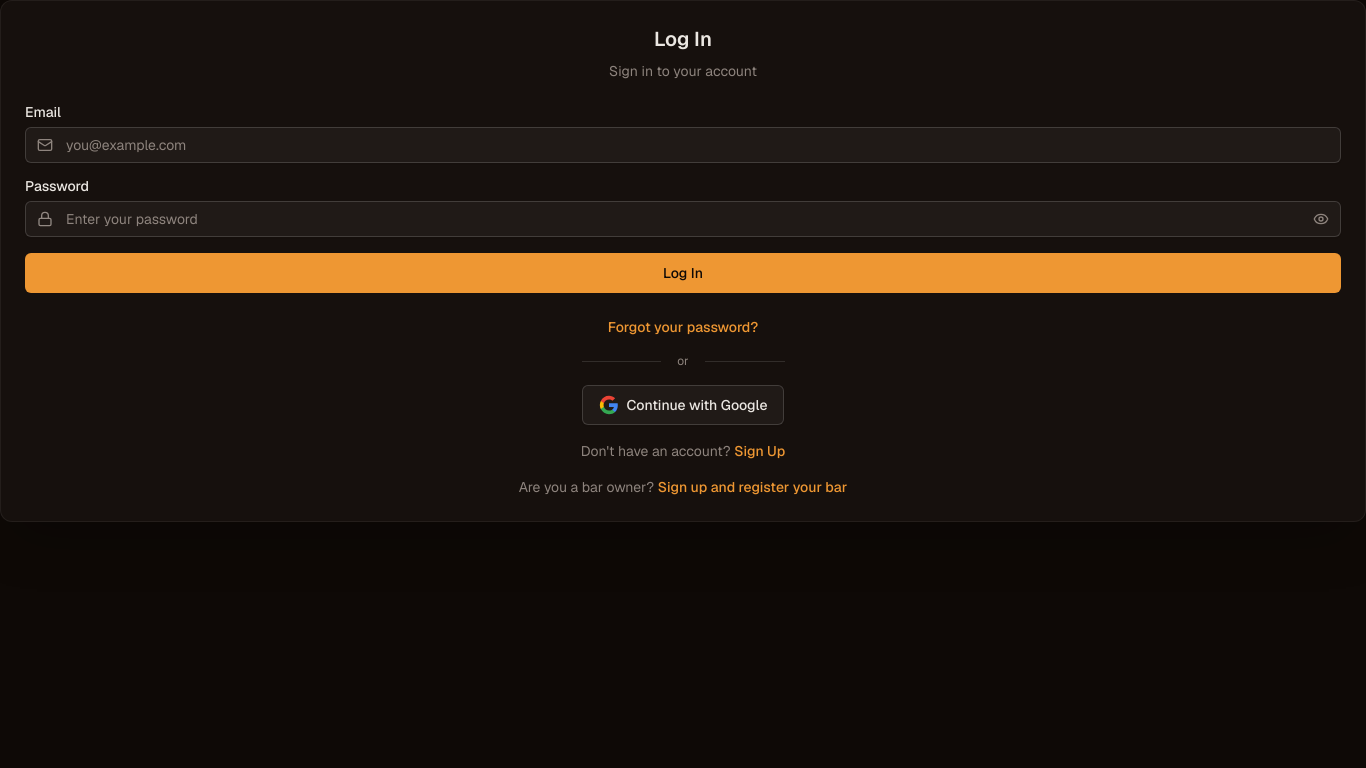
Scenario: LoginForm › 로그인 실패 — 403 (계정 정지) › should display suspended account message in auth-error-message when login returns 403
The width and height of the screenshot is (1366, 768).
Type "suspended@example.com" into the field with test id "login-email-input" at [683, 145], box 25,127 -> 1341,163
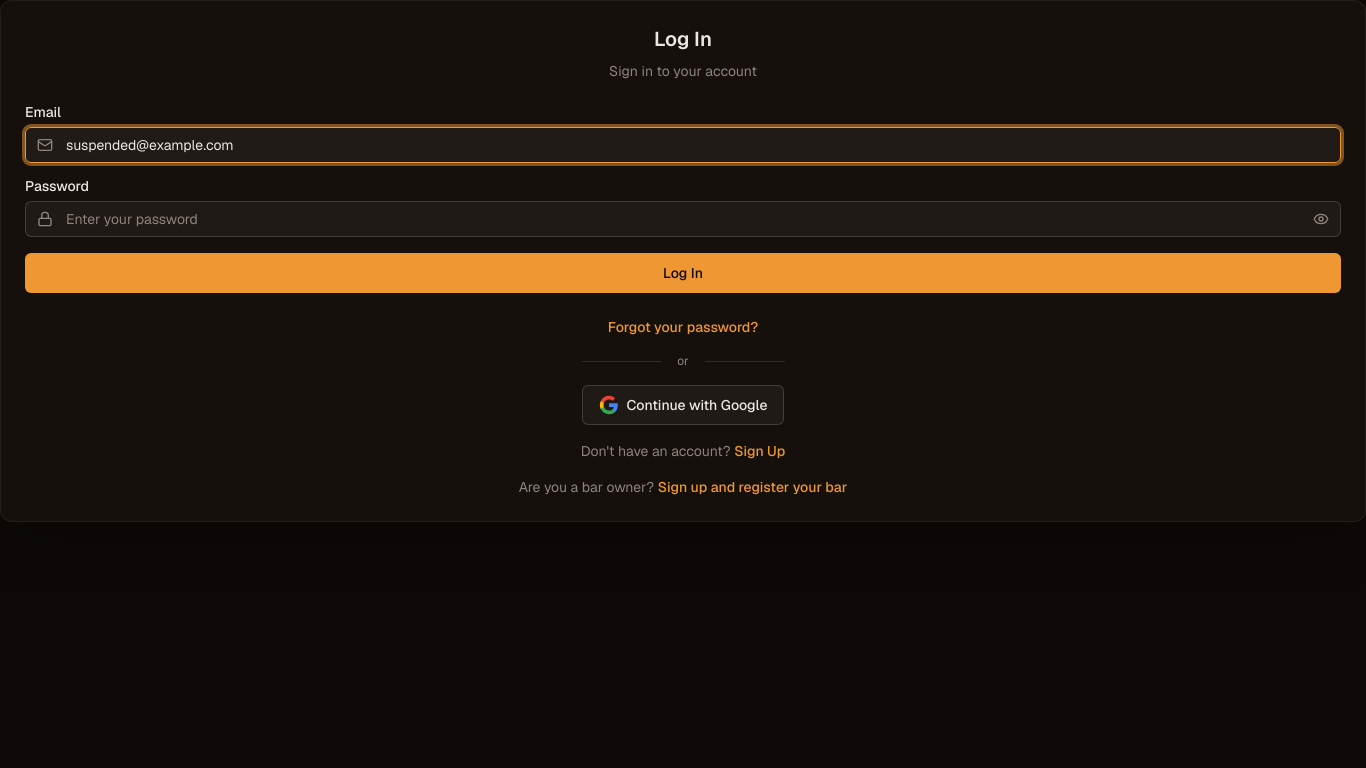
Type "password123" into the password field with test id "login-password-input" at [683, 219], box 25,201 -> 1341,237
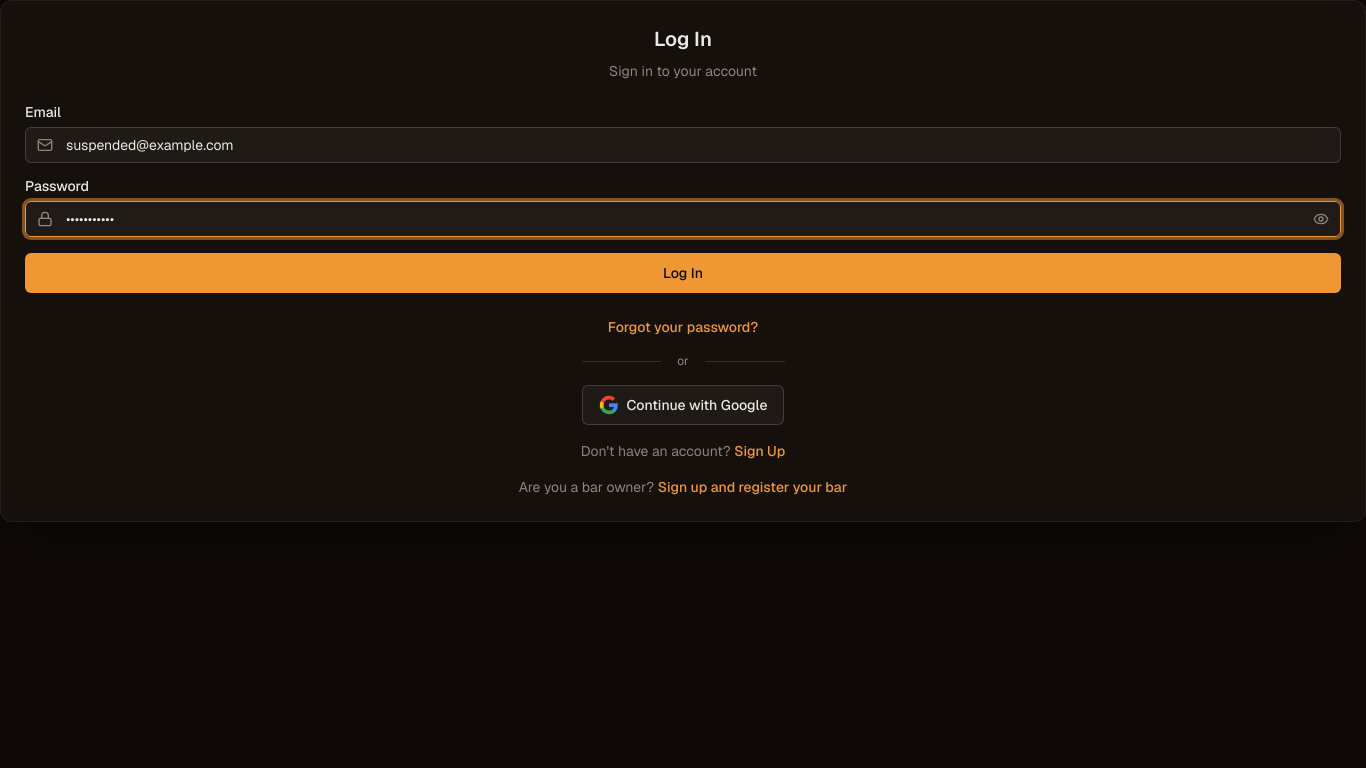
Click the button with test id "login-submit-button" at [683, 273], box 25,253 -> 1341,293
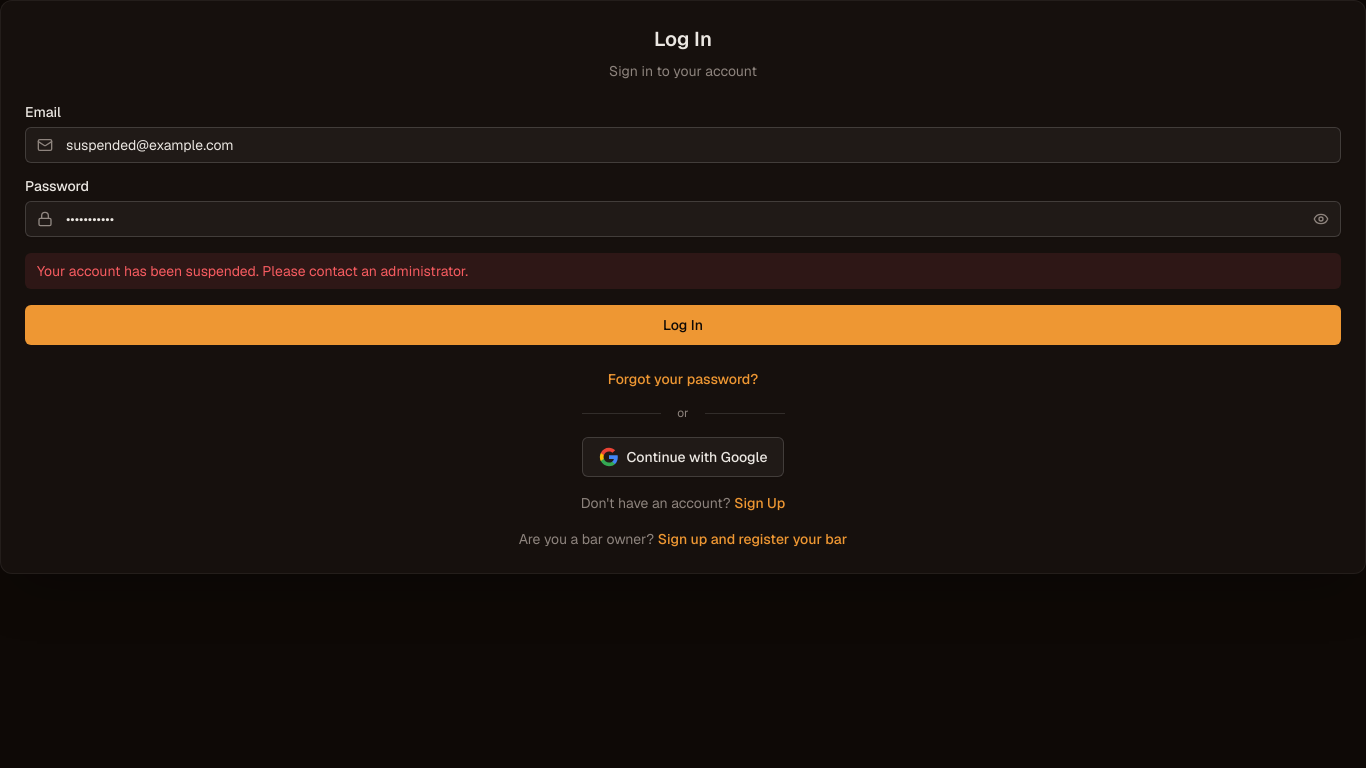
Now the message with test id "auth-error-message" reads "Your account has been suspended. Please contact an administrator.", box 37,262 -> 468,280
